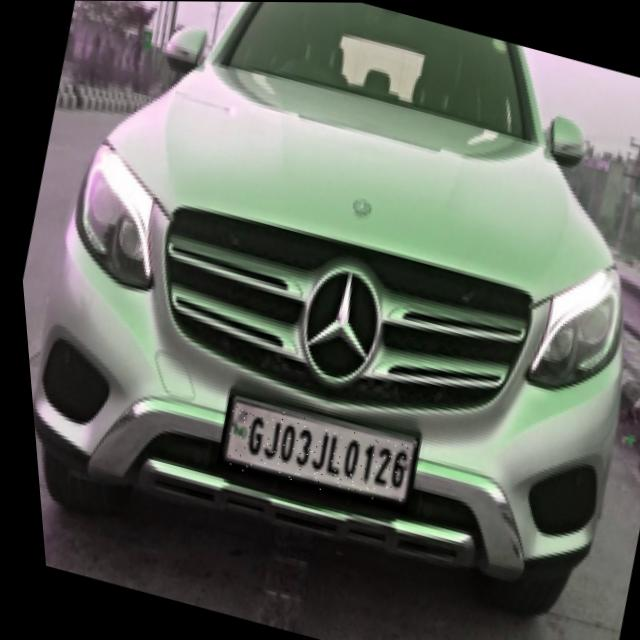license_plate: (204, 397, 414, 514)
